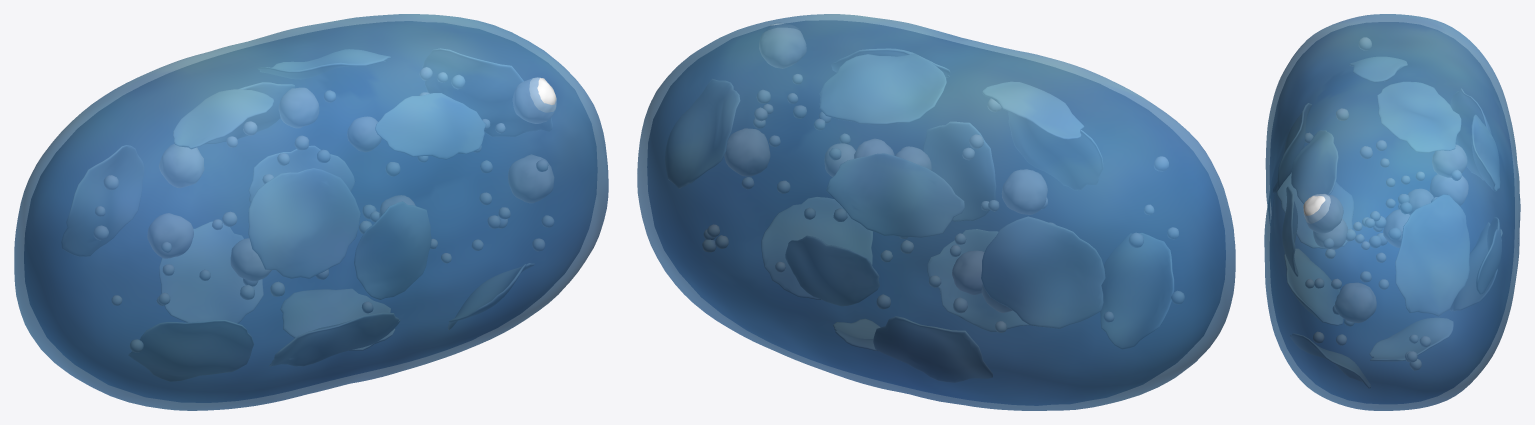
File: vacuole.glb
3 renders of one model, left to right at view 1: azimuth 30°, elevation 25°; view 2: azimuth 150°, elevation 25°; view 3: azimuth 270°, elevation 25°, orthographic. The views are drawn at different scales.
Parts seen in each view (by area): view 1: vacuole-tonoplast, vacuole-solutes; view 2: vacuole-tonoplast, vacuole-solutes; view 3: vacuole-tonoplast, vacuole-solutes.
Part boxes in pixels (x1,y1,x2,y2): vacuole-tonoplast: (14, 14, 608, 410); vacuole-solutes: (62, 49, 556, 381); vacuole-tonoplast: (637, 14, 1235, 410); vacuole-solutes: (665, 23, 1183, 382); vacuole-tonoplast: (1264, 14, 1520, 410); vacuole-solutes: (1273, 38, 1501, 387).
Size of what is drawn, in the model's own units: 5.2 by 2.9 by 2.36.
